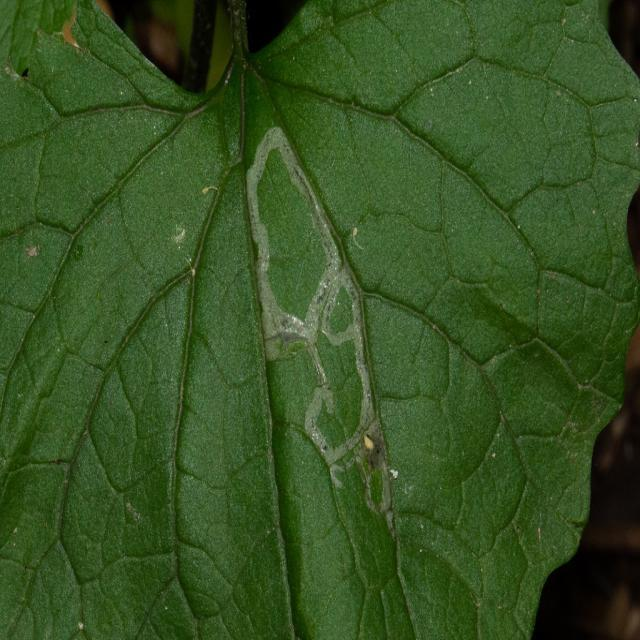Serpentine leafminer: (241, 111, 400, 549)
